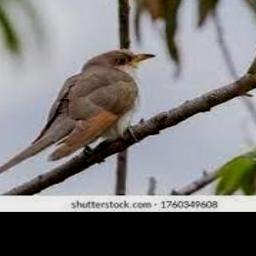Cuckoo: (0, 49, 156, 177)
